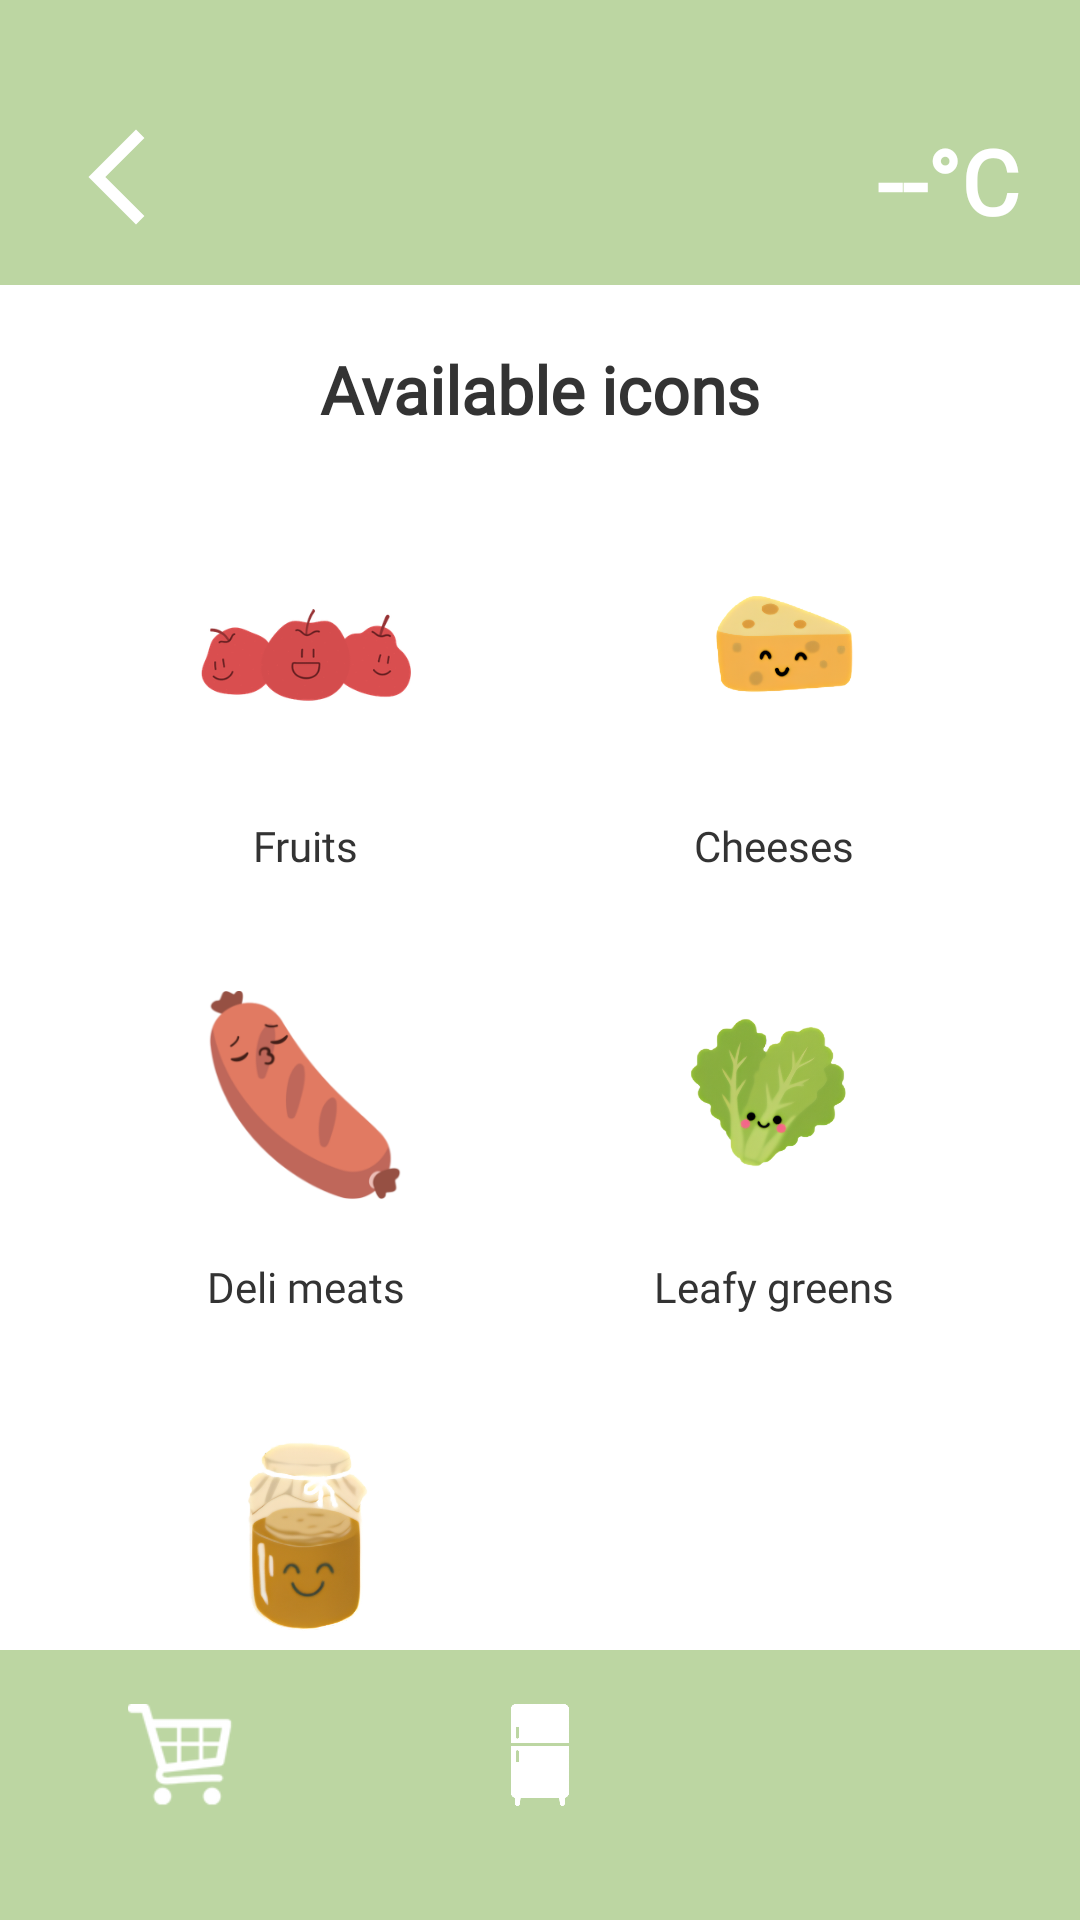

Icons on this 1080 x 1920 Android screen, each with its box as (x1, y1, x2, y2):
back: (89, 130, 144, 224)
cart: (128, 1704, 231, 1805)
fermentation: (248, 1443, 367, 1629)
fridge: (511, 1704, 569, 1806)
happy apples: (201, 609, 411, 701)
veggie: (691, 1019, 846, 1166)
